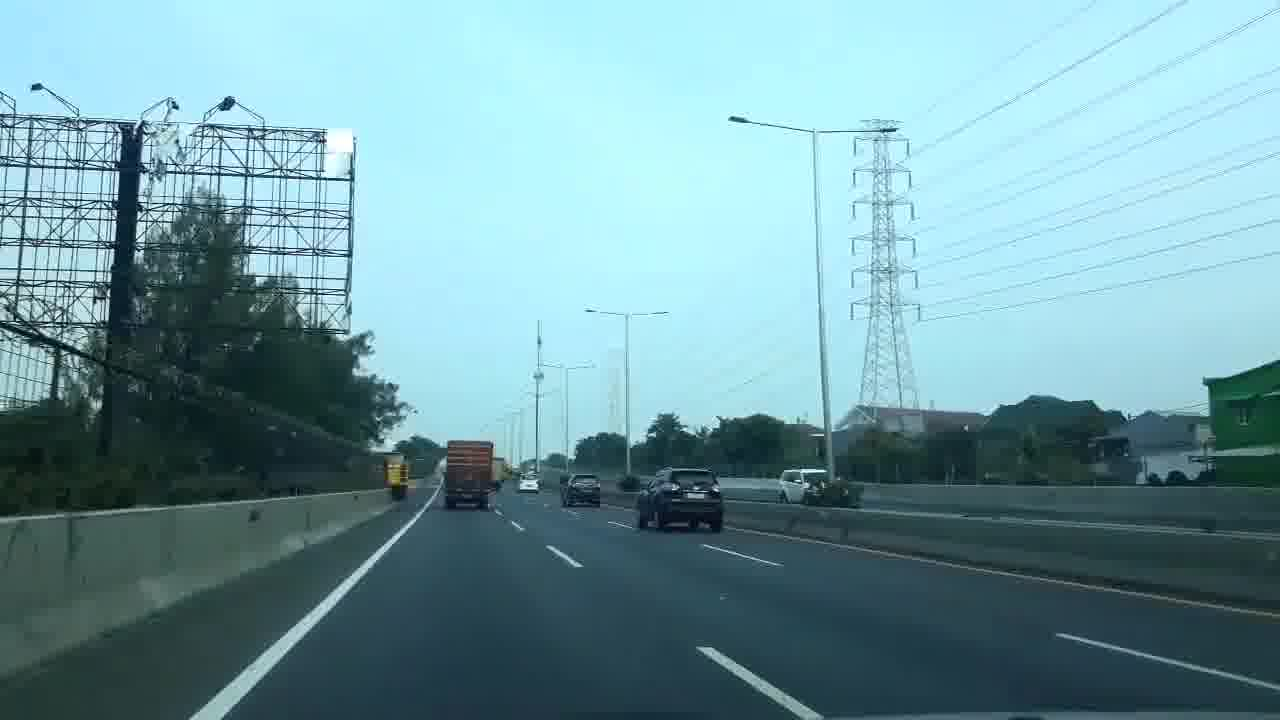plate_positive: (687, 492, 704, 499)
